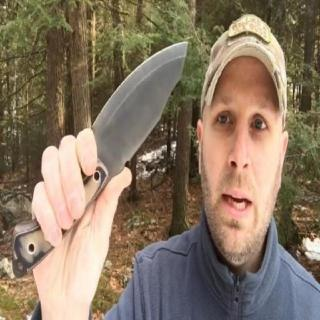knife: (54, 39, 192, 230)
